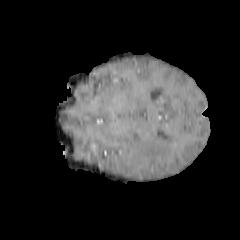glioma: (107, 129, 179, 174)
